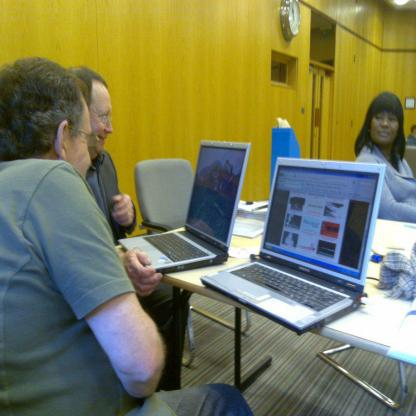board: (206, 150, 385, 336), (118, 142, 252, 272)
